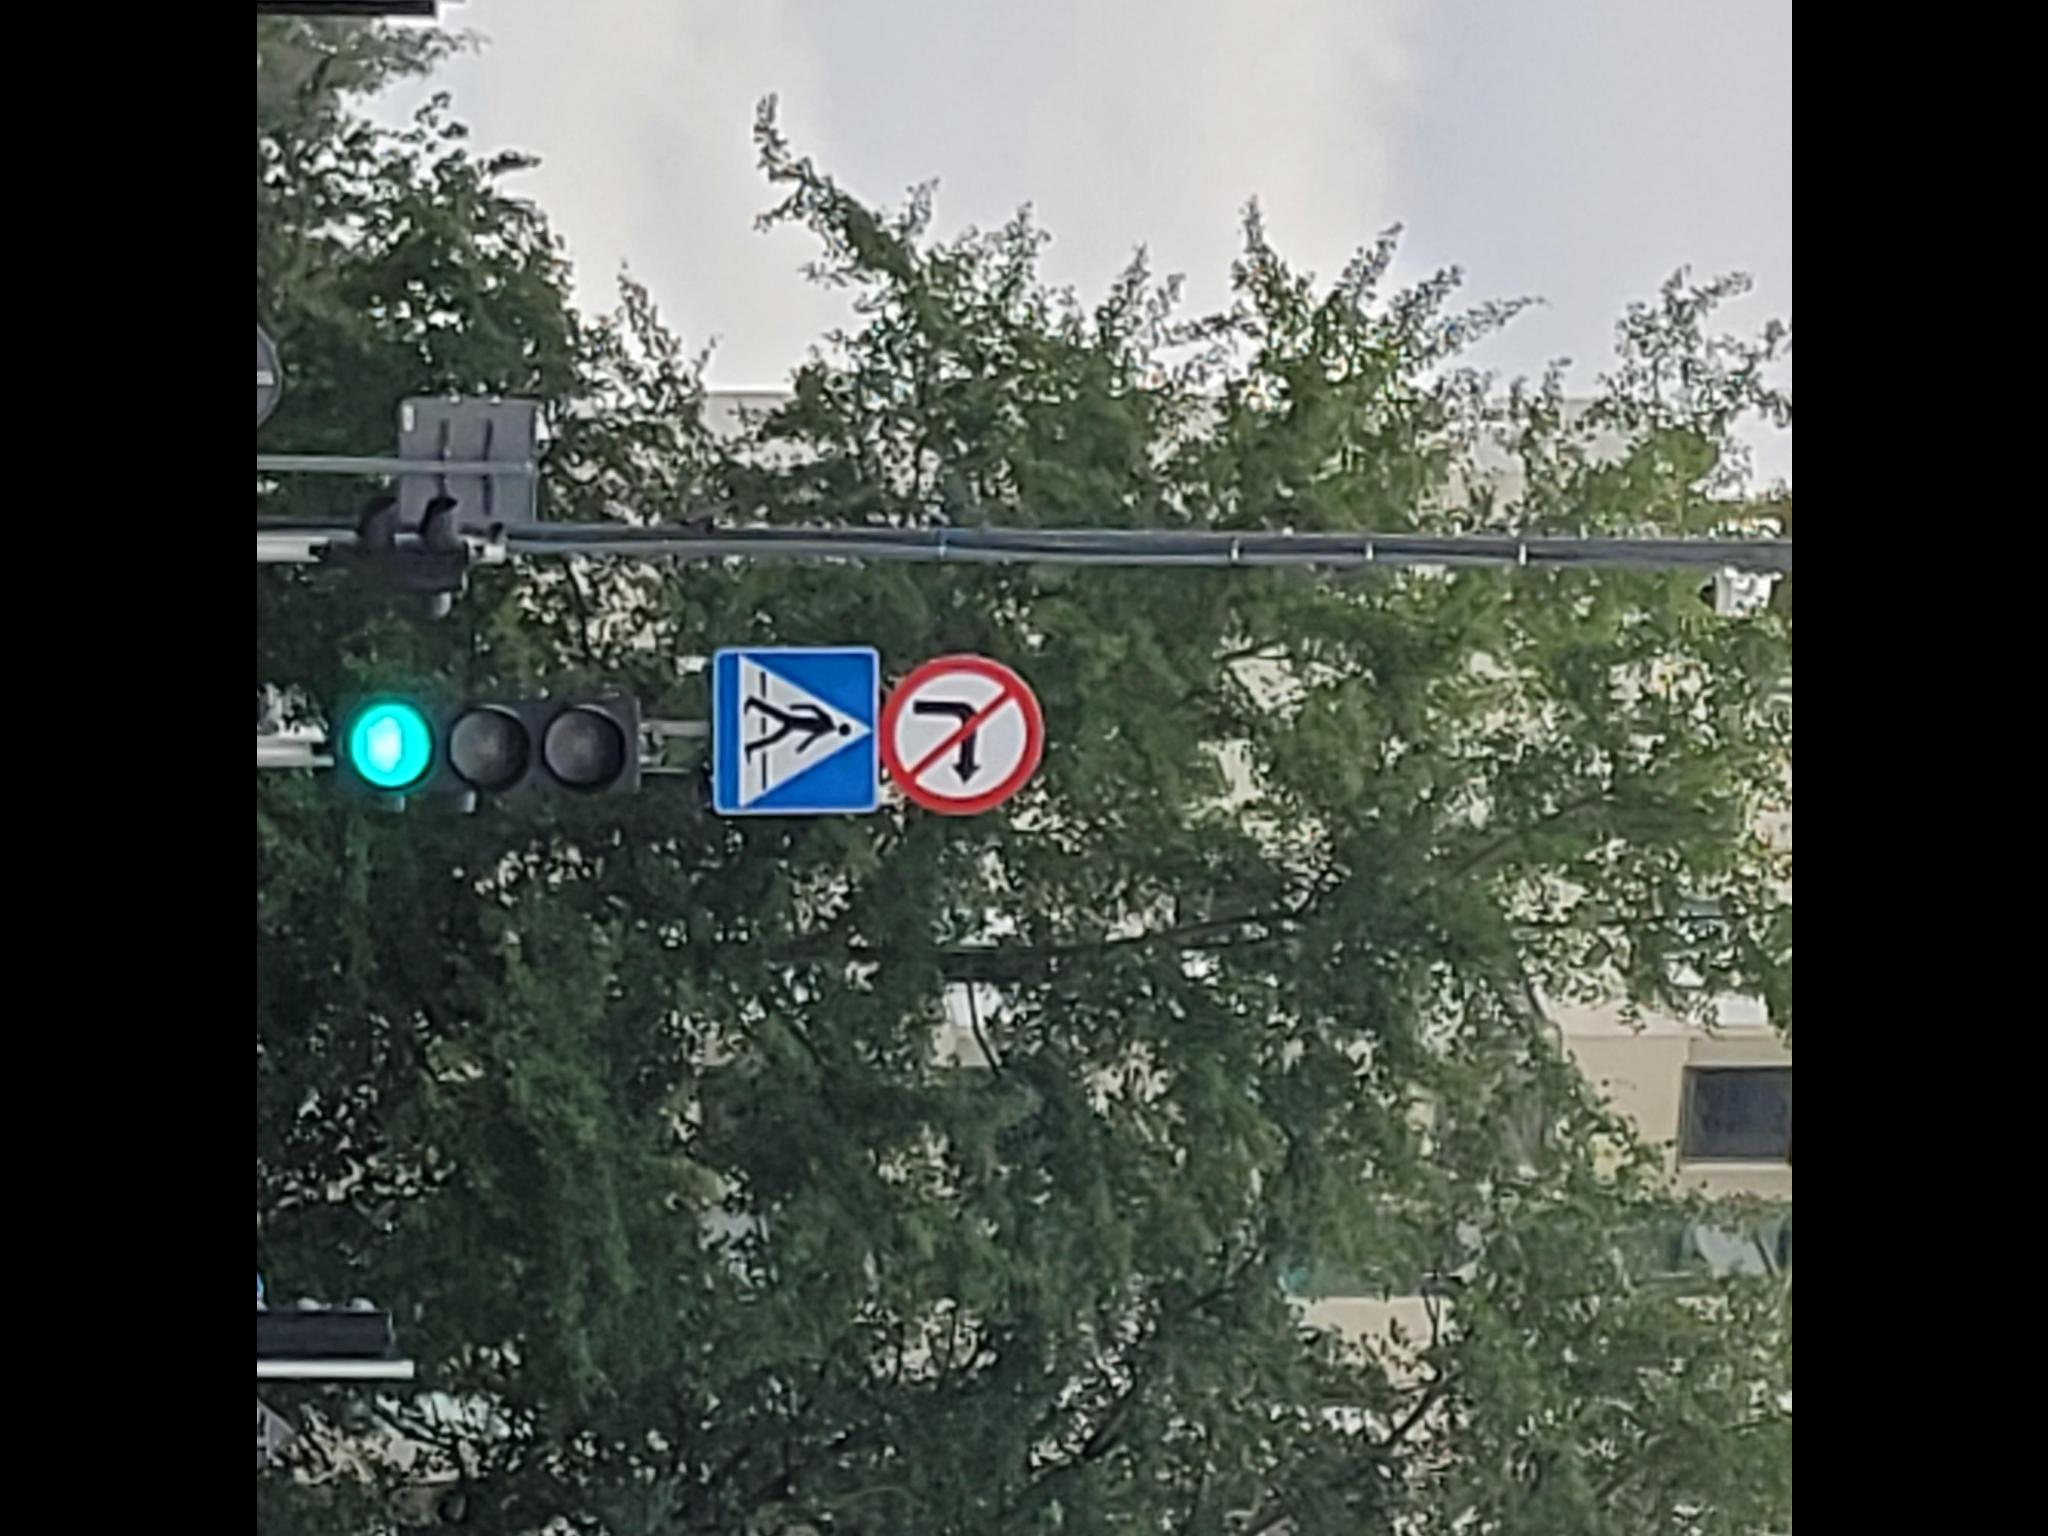information: (718, 649, 872, 812)
prohibitory: (877, 653, 1043, 816)
